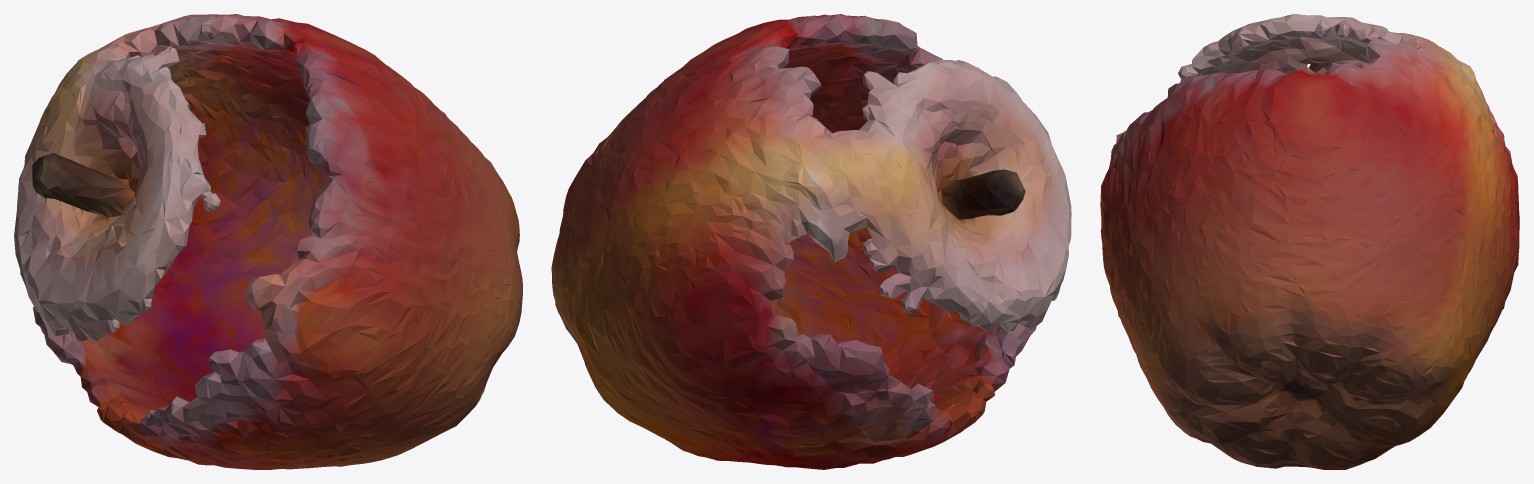
File: apple_1.glb
3 renders of one model, left to right at view 1: azimuth 30°, elevation 25°; view 2: azimuth 150°, elevation 25°; view 3: azimuth 270°, elevation 25°, orthographic. The views are drawn at different scales.
Visible parts, largest first — view 1: geometry_0; view 2: geometry_0; view 3: geometry_0.
Part boxes in pixels (<box>): geometry_0: <box>14,14,522,469</box>; geometry_0: <box>551,14,1071,469</box>; geometry_0: <box>1100,14,1519,469</box>.
Bounding box in the file's own units: 1 × 0.8864 × 0.8931.
